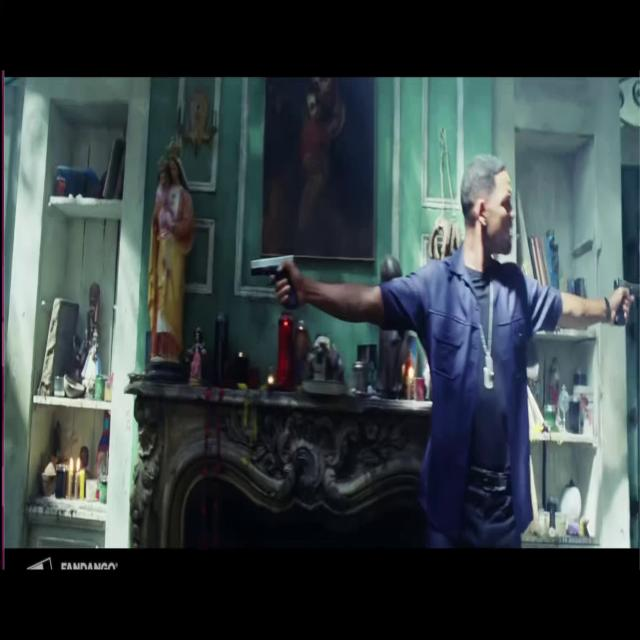weapons: (238, 236, 308, 320)
